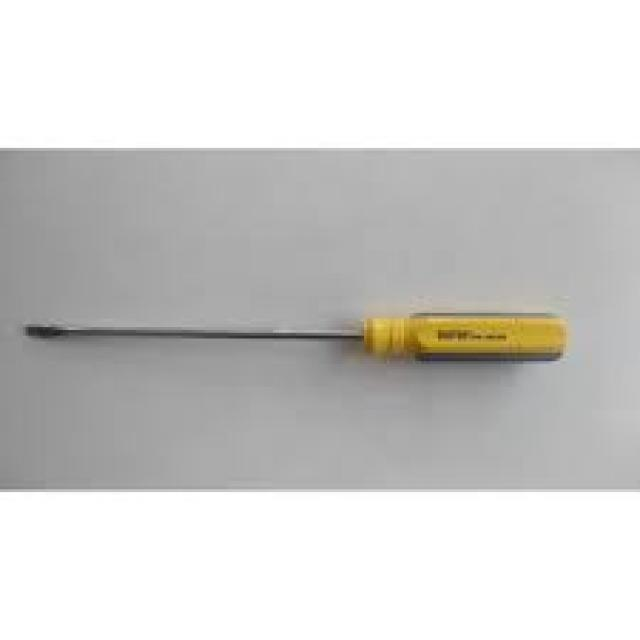screwdriver: (18, 307, 570, 364)
